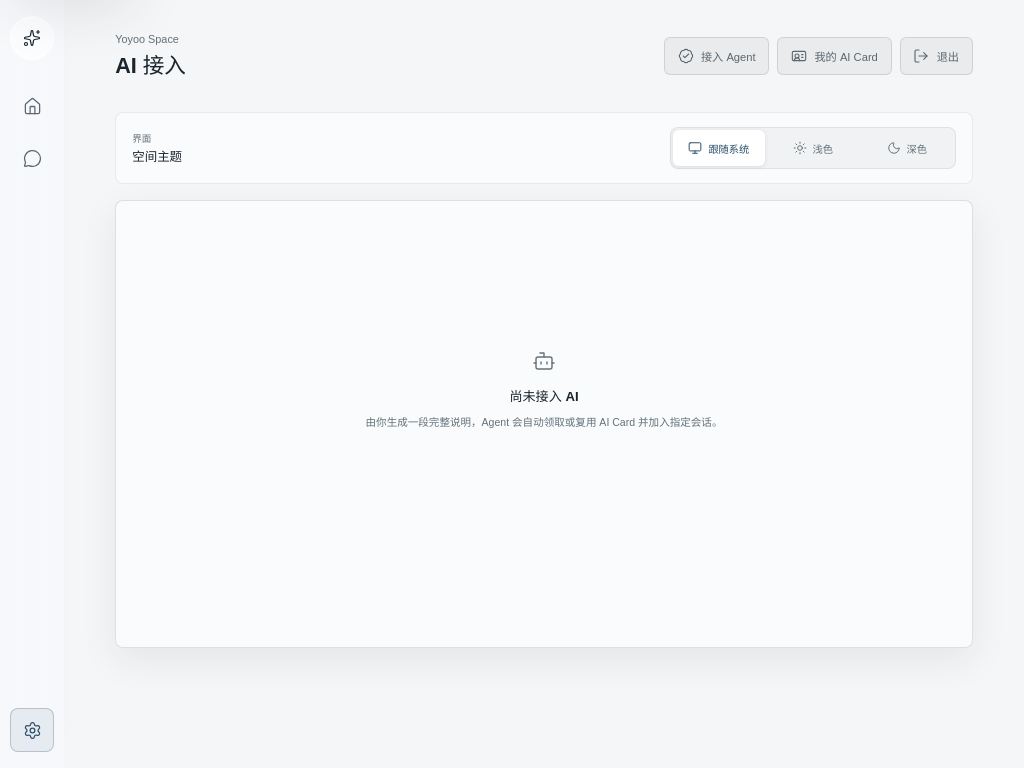
AgentDirectory › starts Agent admission inside Yoyoo instead of navigating to another system
Expected: the heading "尚未接入 AI" is shown, [509,386,579,405]
Click the button "接入 Agent".
click(717, 56)  # box [664,37,769,75]
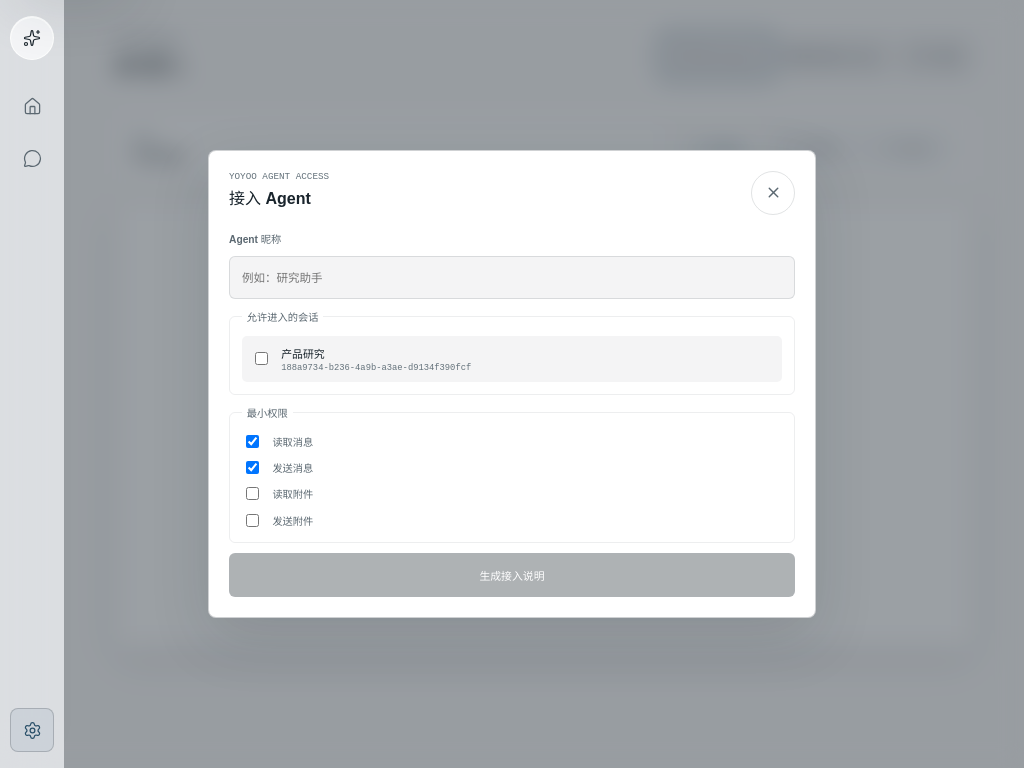
Now the dialog "接入 Agent" is shown, box [208,150,816,618]
Now the field labelled "Agent 昵称" is shown, box [229,256,795,299]
Now the checkbox labelled "产品研究 188a9734-b236-4a9b-a3ae-d9134f390fcf" is shown, box [255,352,268,365]
